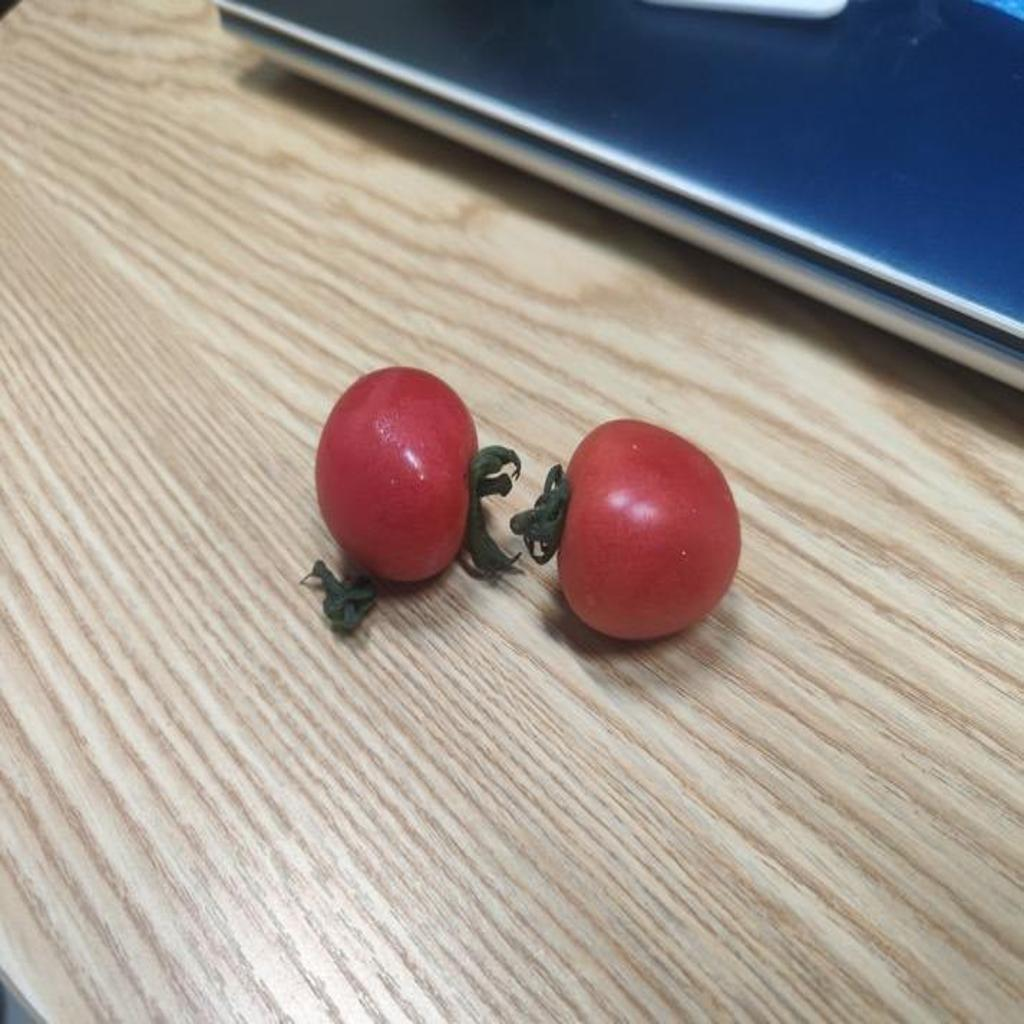tomato: (556, 413, 745, 651), (310, 360, 482, 587)
